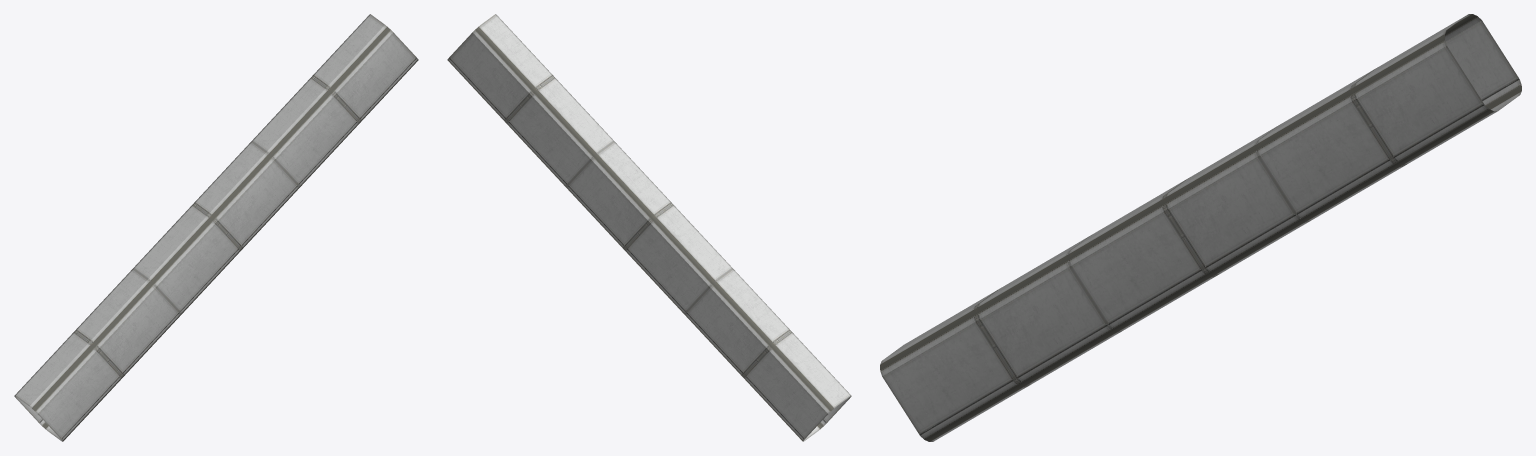
Rendered from Beam_01.FBX.
3 views of the same model, side by side, from view 1: azimuth 30°, elevation 25°; view 2: azimuth 150°, elevation 25°; view 3: azimuth 330°, elevation 25° (orthographic). The views are drawn at different scales.
Parts seen in each view (by area): view 1: Beam_01; view 2: Beam_01; view 3: Beam_01.
Part boxes in pixels (x1=…): Beam_01: x1=14, y1=14, x2=418, y2=441; Beam_01: x1=447, y1=14, x2=851, y2=441; Beam_01: x1=880, y1=14, x2=1521, y2=441.
Bounding box in the file's own units: 15.11 × 12.57 × 1.49.
